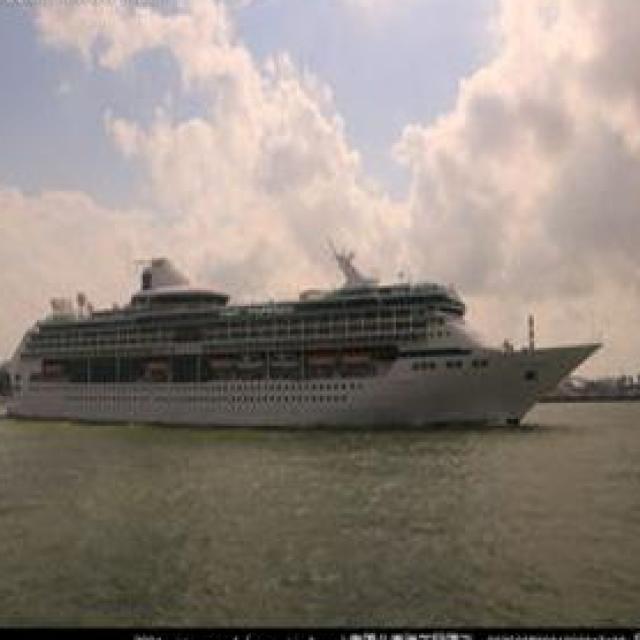passenger ship: (0, 237, 615, 431)
